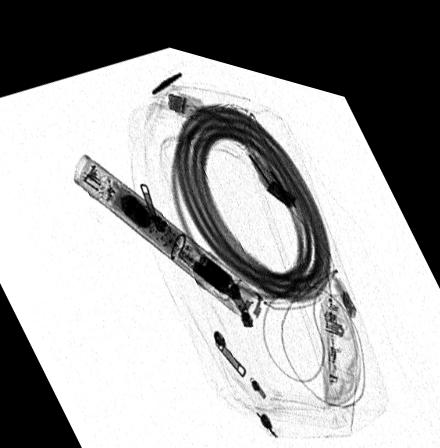Baton: (72, 148, 262, 308)
